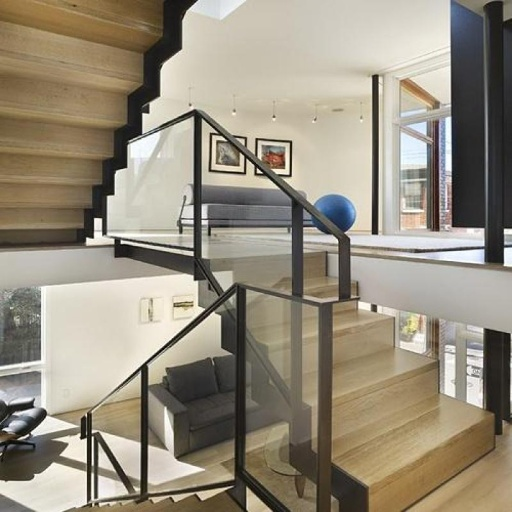Stairs: (333, 302, 495, 512), (252, 306, 316, 470), (248, 296, 291, 387)
